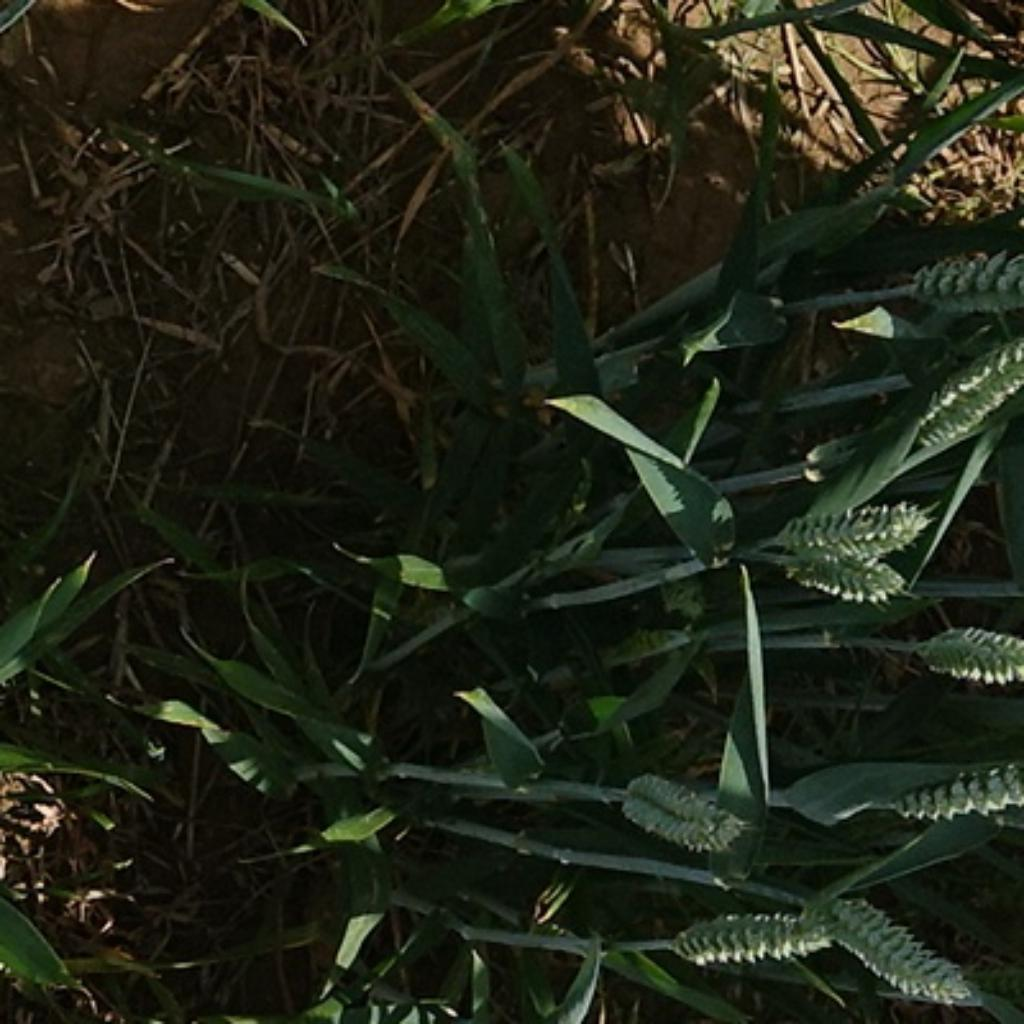0-0: (801, 878, 972, 1013), (611, 766, 754, 865), (907, 335, 1024, 452), (770, 496, 939, 563), (880, 750, 1024, 826), (660, 903, 834, 965), (760, 547, 924, 606), (921, 614, 1024, 704), (902, 243, 1024, 307)
